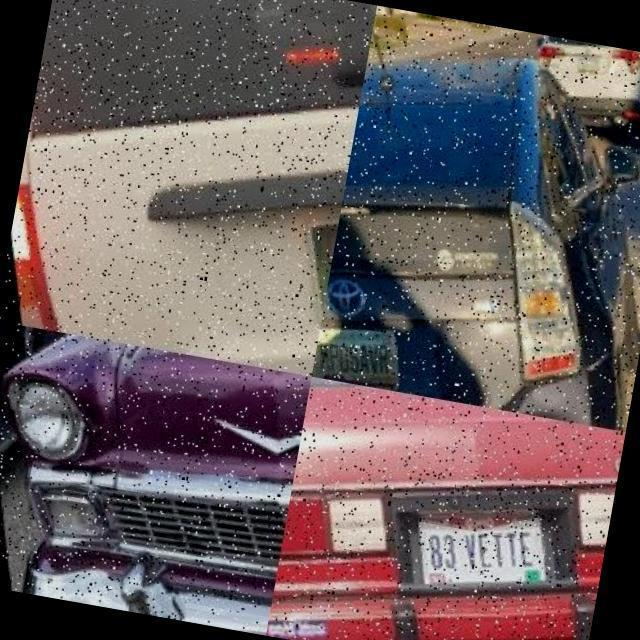License Plate: (410, 513, 535, 583), (310, 326, 390, 390)
